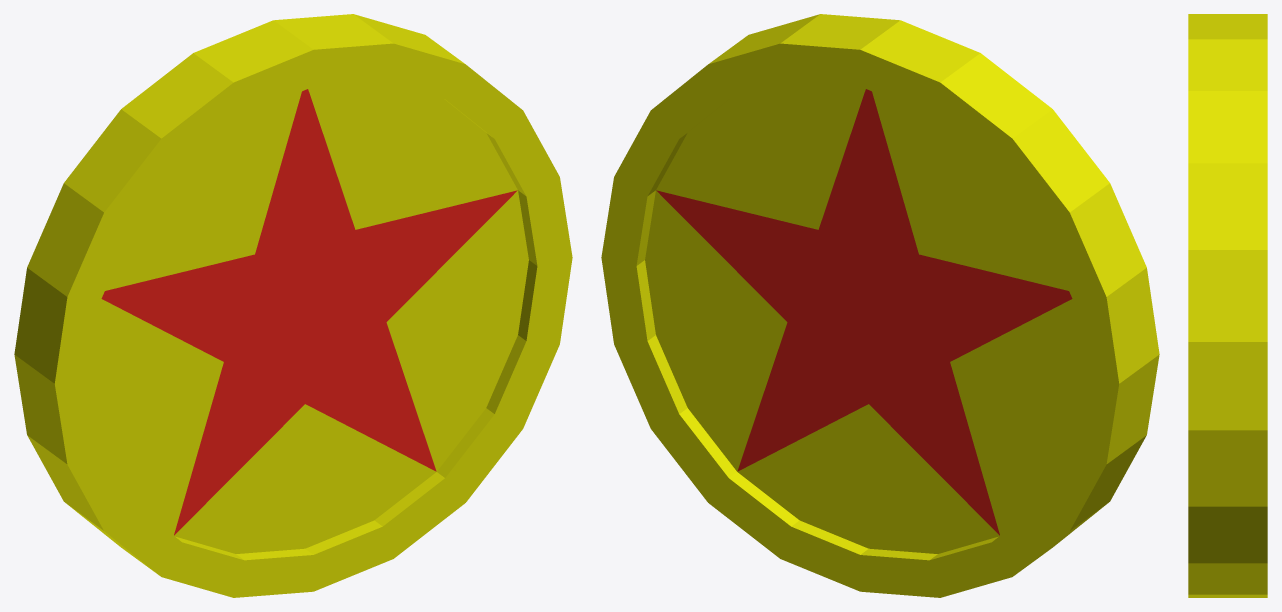
Rendered from coin.fbx.
3 views of the same model, side by side, from view 1: azimuth 30°, elevation 25°; view 2: azimuth 150°, elevation 25°; view 3: azimuth 270°, elevation 25° (orthographic).
Visible parts, largest first — view 1: Cylinder; view 2: Cylinder; view 3: Cylinder.
Boxes of the visible parts, x1=… form: Cylinder: x1=14, y1=14, x2=572, y2=597; Cylinder: x1=601, y1=14, x2=1159, y2=597; Cylinder: x1=1188, y1=14, x2=1267, y2=597.
Size of the model in its own units: 2 by 2 by 0.2699.
